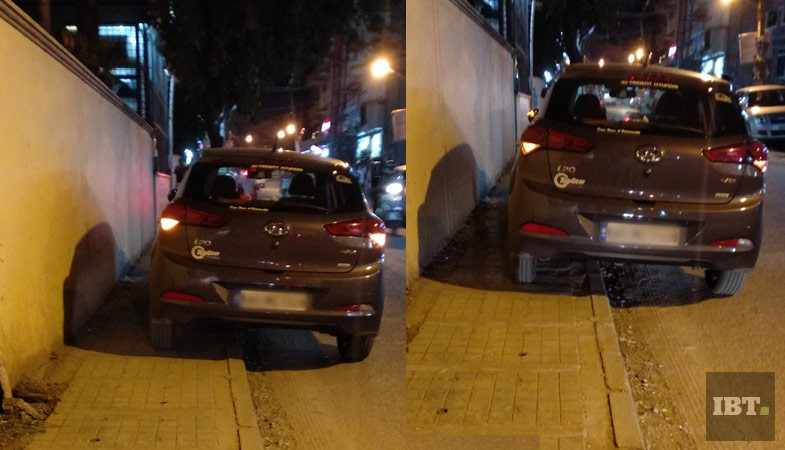car: (516, 58, 765, 295), (150, 145, 381, 362)
